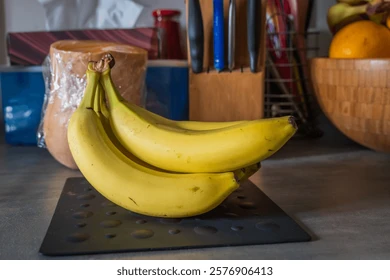banana: (66, 56, 298, 219)
